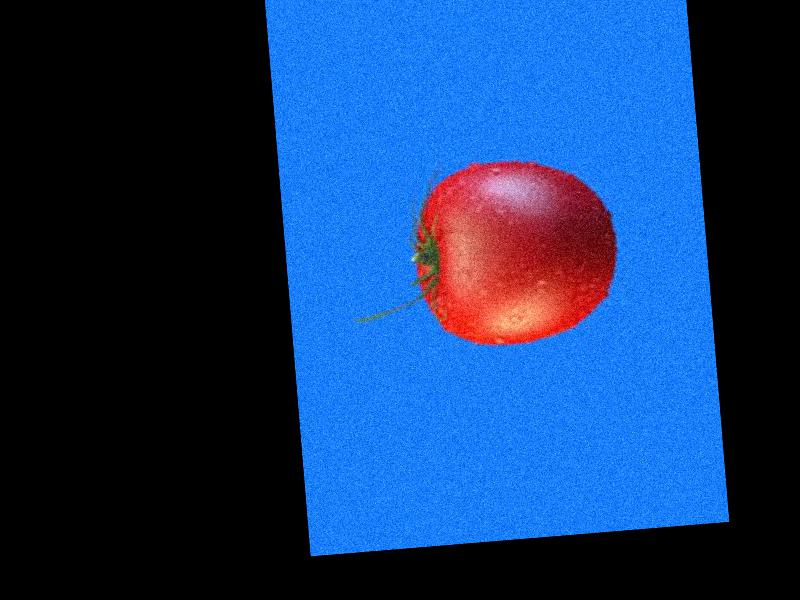Tomato: (406, 151, 623, 351)
